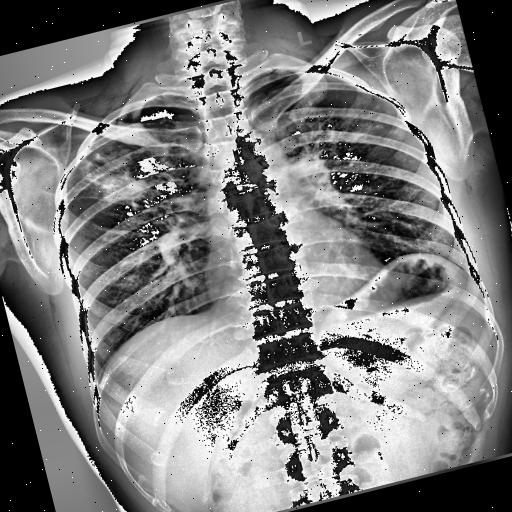13- Pulmonary fibrosis: (66, 138, 166, 222), (65, 139, 162, 219), (72, 140, 160, 218), (300, 95, 396, 162), (312, 86, 396, 152), (334, 102, 394, 154)
6- Infiltration: (65, 139, 162, 219), (334, 102, 394, 154)
7- Lung Opacity: (72, 140, 160, 218)
